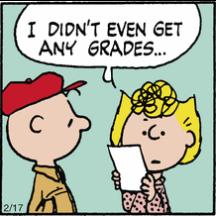charlie: (0, 68, 96, 214)
